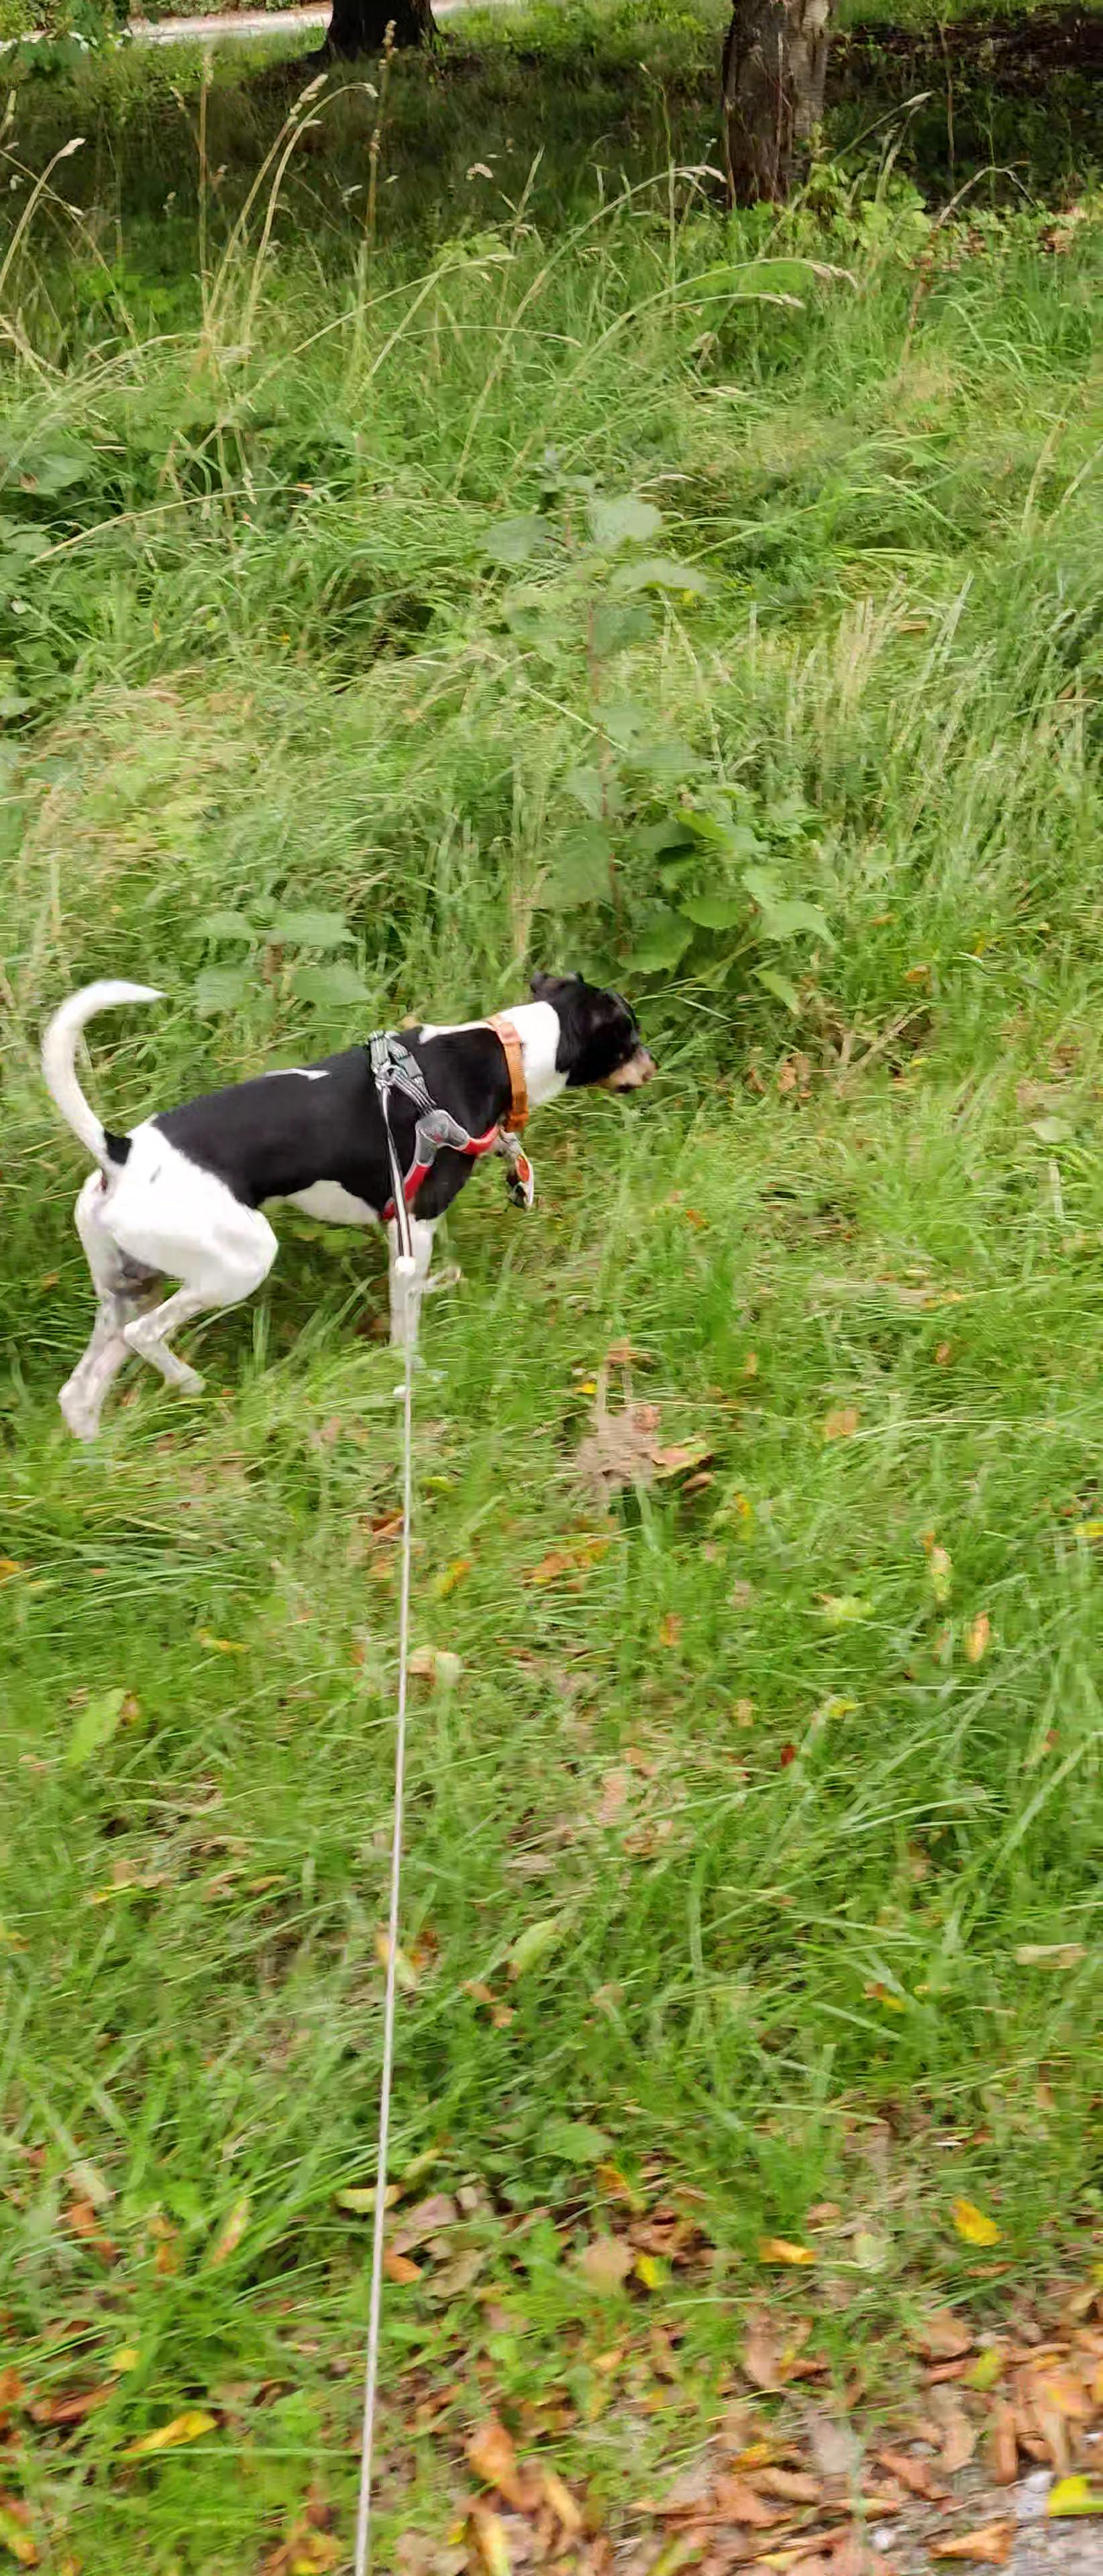Dog: (36, 969, 664, 1452)
